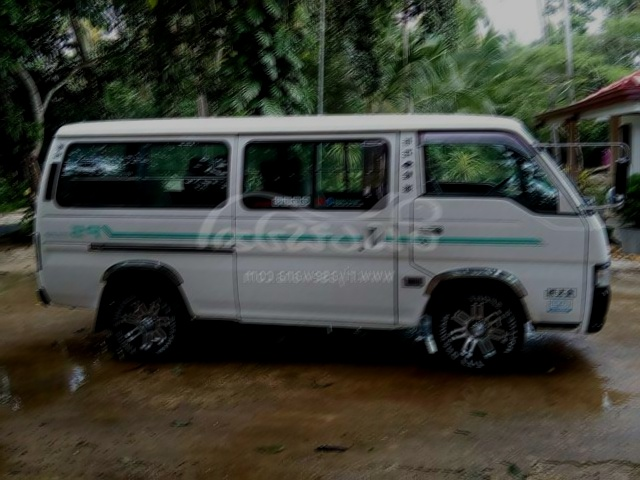van: (30, 104, 627, 395)
